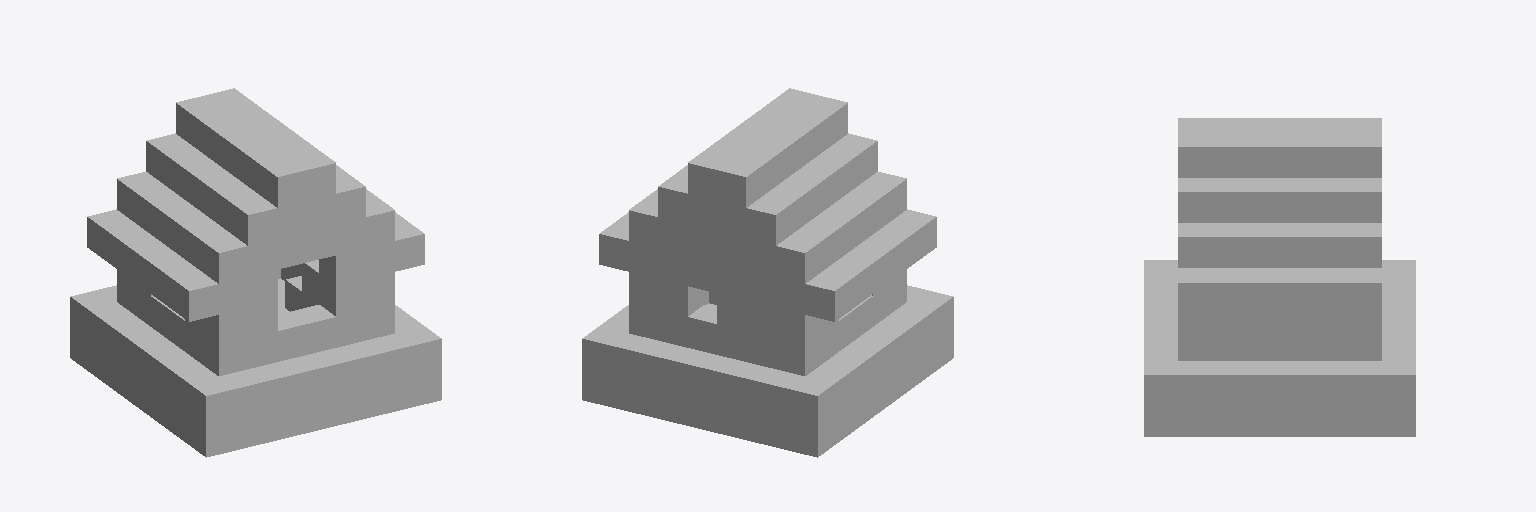
File: littleHouse.obj
The picture shows the model from 3 angles: view 1: azimuth 30°, elevation 25°; view 2: azimuth 150°, elevation 25°; view 3: azimuth 270°, elevation 25°; orthographic projection.
Parts seen in each view (by area): view 1: object 1; view 2: object 1; view 3: object 1.
Part boxes in pixels (bbox=[...]): object 1: bbox=[70, 88, 441, 457]; object 1: bbox=[582, 88, 953, 457]; object 1: bbox=[1144, 118, 1415, 436].
Size of the model in its own units: 0.8 by 0.8 by 0.8.